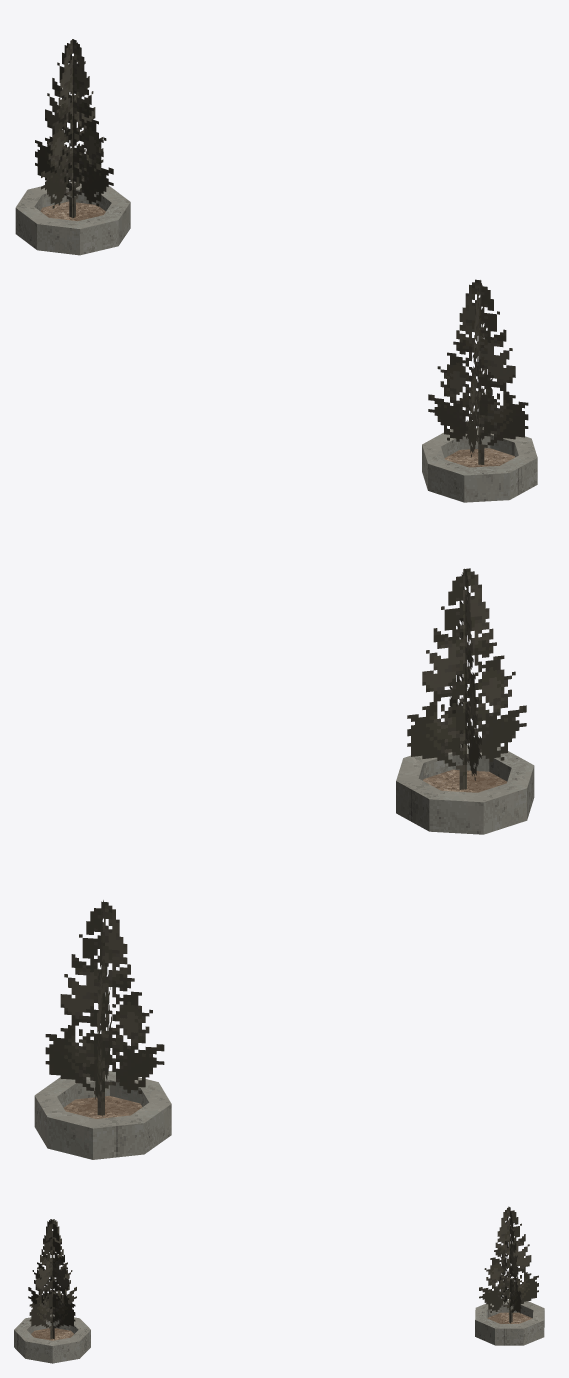
Rendered from procgen-procpain-tree-park-pine-large-xm1z0.obj.
3 views of the same model, one above another, from view 1: azimuth 30°, elevation 25°; view 2: azimuth 150°, elevation 25°; view 3: azimuth 270°, elevation 25° (orthographic). The views are drawn at different scales.
Size of the model in its own units: 7.8 by 8.99 by 34.53.
